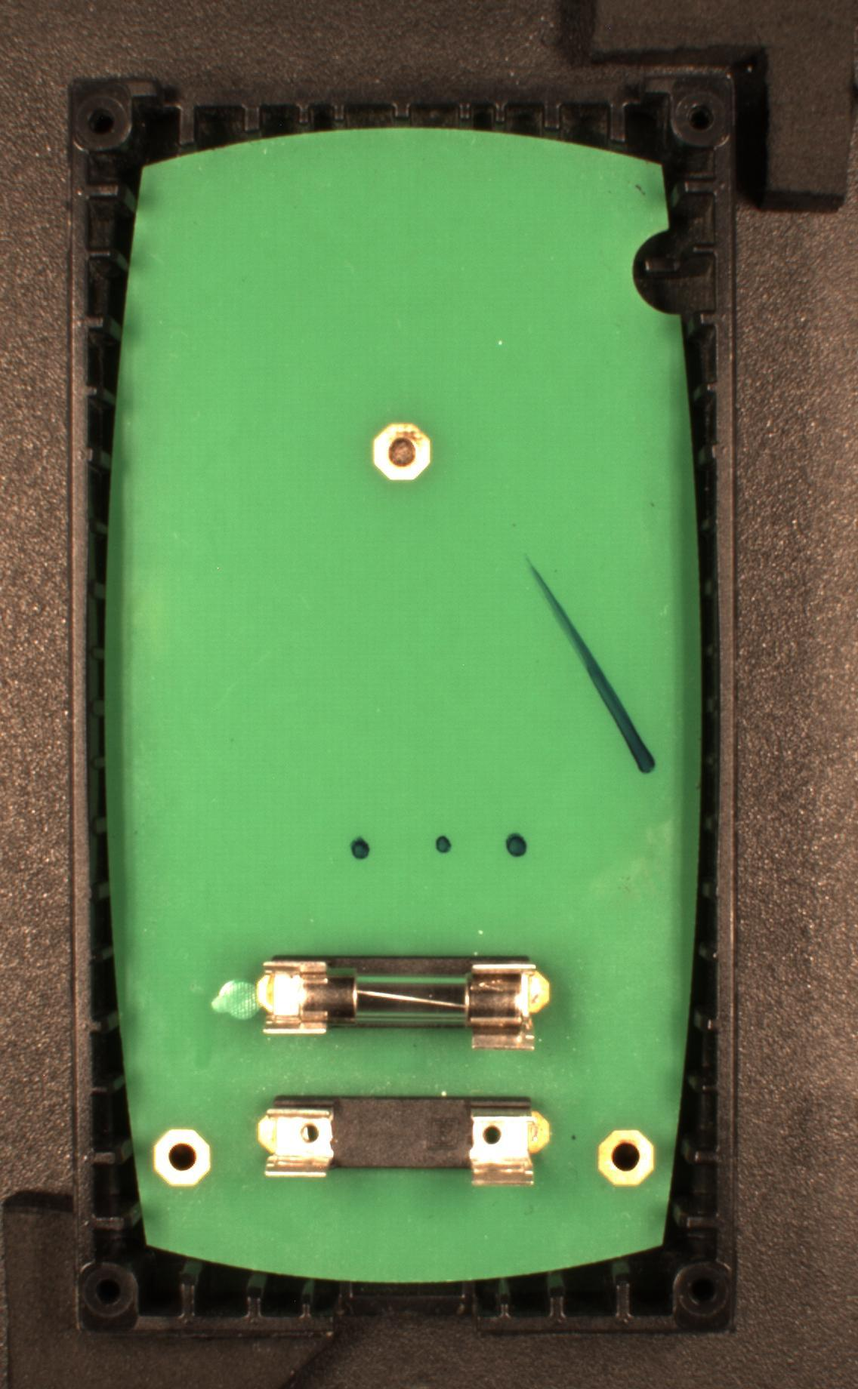Linijsko Ostecene: (521, 550, 660, 777)
Nepostojanje osiguraca: (258, 1091, 554, 1189)
Tockasto Ostecenje: (503, 832, 529, 860), (348, 834, 371, 861), (435, 835, 455, 856)
